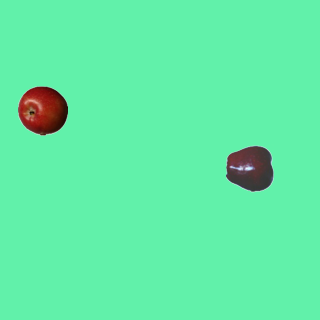Apple Braeburn: (17, 85, 67, 135)
Apple Red Delicious: (225, 143, 275, 193)
